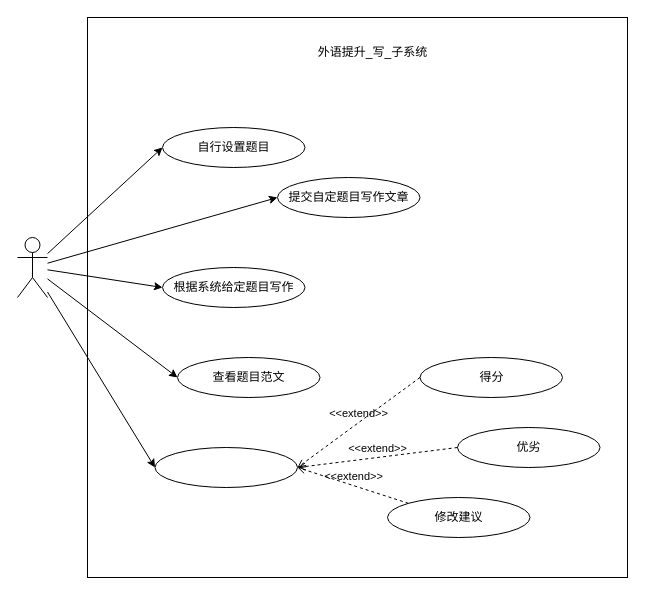
This 645x595 diagram has some shape labels left out. Each missing label, with the centre of its shape:
"查看写作报告" belongs at point 226,467.
"用户" belongs at point 32,267.
